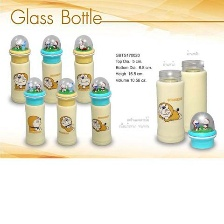bottle: (177, 57, 213, 137), (151, 67, 186, 146), (70, 30, 100, 104), (86, 76, 115, 149), (6, 31, 34, 104), (22, 75, 50, 148), (54, 76, 81, 149), (38, 31, 64, 106)
